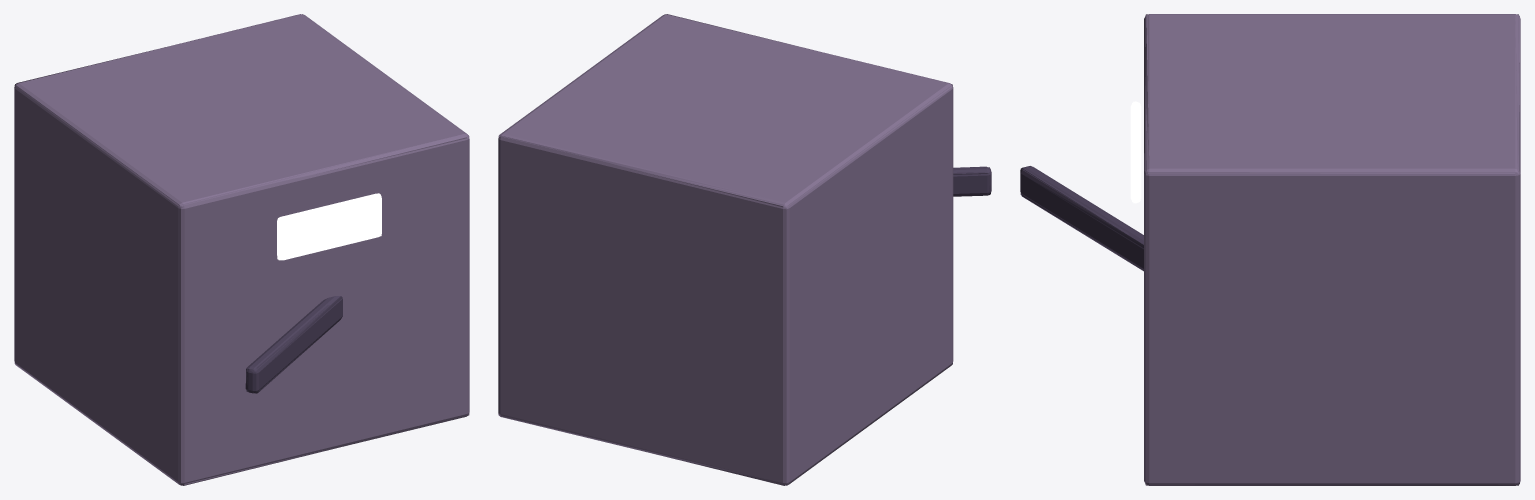
The model's file is SM_Labor_Crate.fbx.
3 views of the same model, side by side, from view 1: azimuth 30°, elevation 25°; view 2: azimuth 150°, elevation 25°; view 3: azimuth 270°, elevation 25° (orthographic). The views are drawn at different scales.
Parts seen in each view (by area): view 1: LOD0_SM_Labor_Crate, LOD1_SM_Labor_Crate, LOD2_SM_Labor_Crate; view 2: LOD0_SM_Labor_Crate, LOD1_SM_Labor_Crate; view 3: LOD0_SM_Labor_Crate, LOD1_SM_Labor_Crate.
Boxes of the visible parts, x1,y1,x2,y2 form: LOD0_SM_Labor_Crate: (14,14,469,484); LOD1_SM_Labor_Crate: (15,14,469,484); LOD2_SM_Labor_Crate: (14,14,469,485); LOD0_SM_Labor_Crate: (498,14,991,485); LOD1_SM_Labor_Crate: (498,27,991,485); LOD0_SM_Labor_Crate: (1020,14,1520,485); LOD1_SM_Labor_Crate: (1020,14,1519,485).
Bounding box in the file's own units: 1.4 × 1.3 × 1.86.
